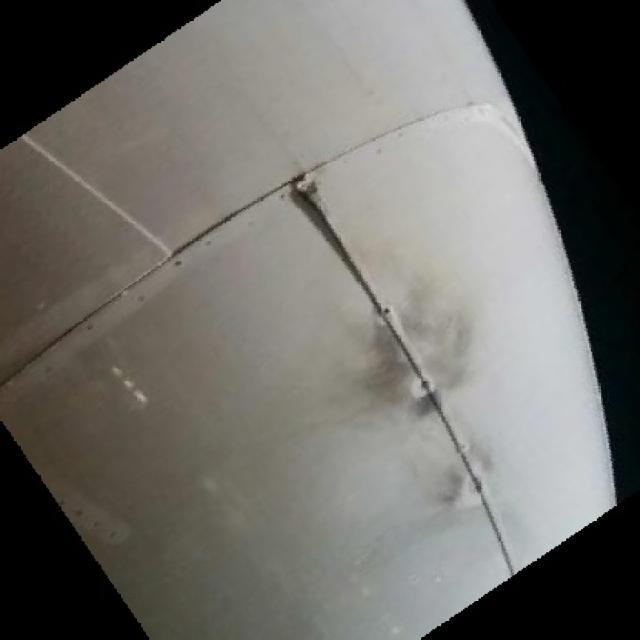crack: (338, 244, 386, 318), (297, 183, 334, 240)
